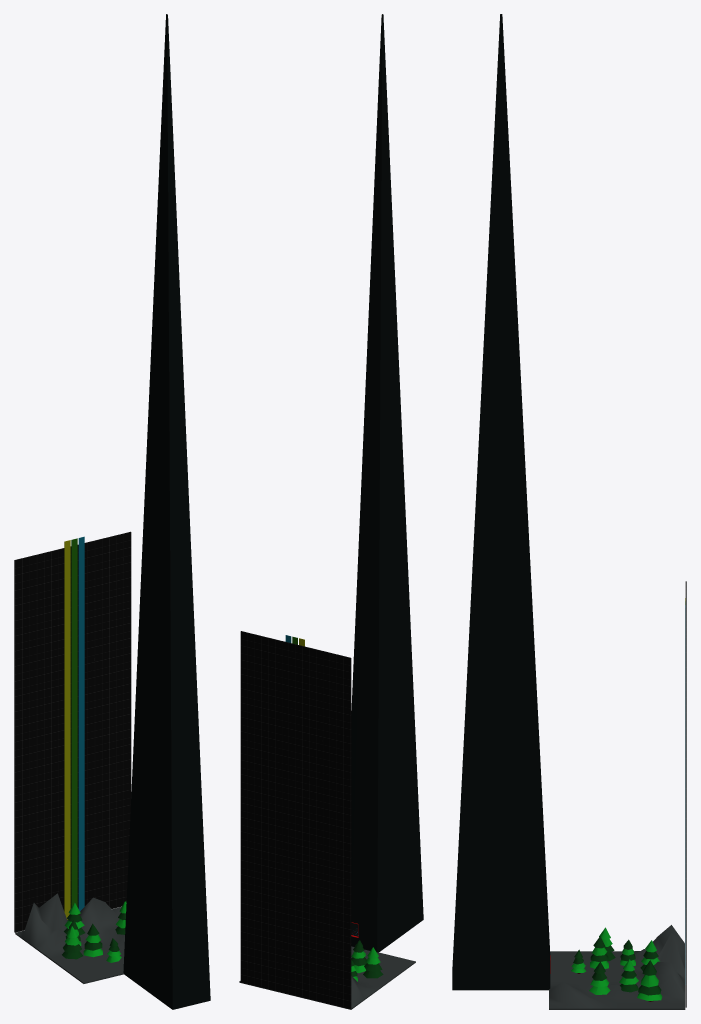
Rendered from env1.FBX.
3 renders of one model, left to right at view 1: azimuth 30°, elevation 25°; view 2: azimuth 150°, elevation 25°; view 3: azimuth 270°, elevation 25°, orthographic. The views are drawn at different scales.
Parts seen in each view (by area): view 1: wall04, background, rainbow, env; view 2: background, wall04, env; view 3: wall04, env, background.
Part boxes in pixels (x1,y1,x2,y2): wall04: (123, 14, 210, 1009); background: (14, 531, 131, 932); rainbow: (64, 536, 84, 919); env: (15, 893, 126, 983); background: (240, 631, 351, 1009); wall04: (351, 14, 423, 952); env: (239, 940, 415, 1009); wall04: (452, 14, 550, 990); env: (549, 925, 685, 1009); background: (685, 581, 686, 1007).
Bounding box in the file's own units: 394 × 678 × 3084.
